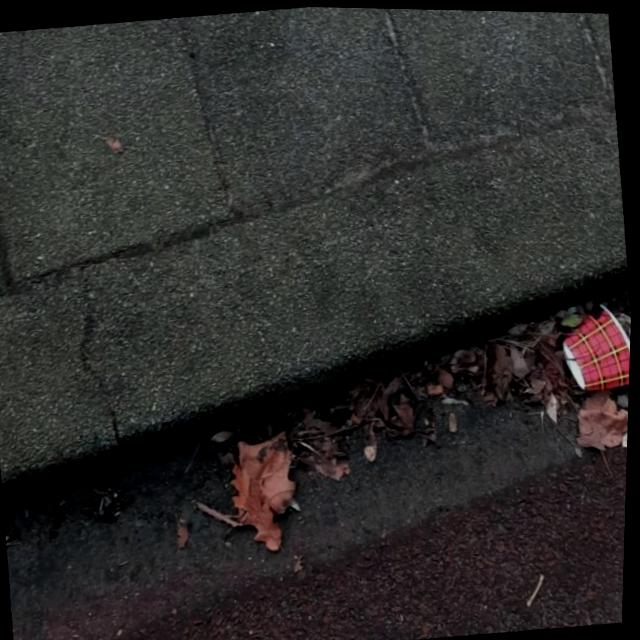Cup: (555, 294, 633, 390)
